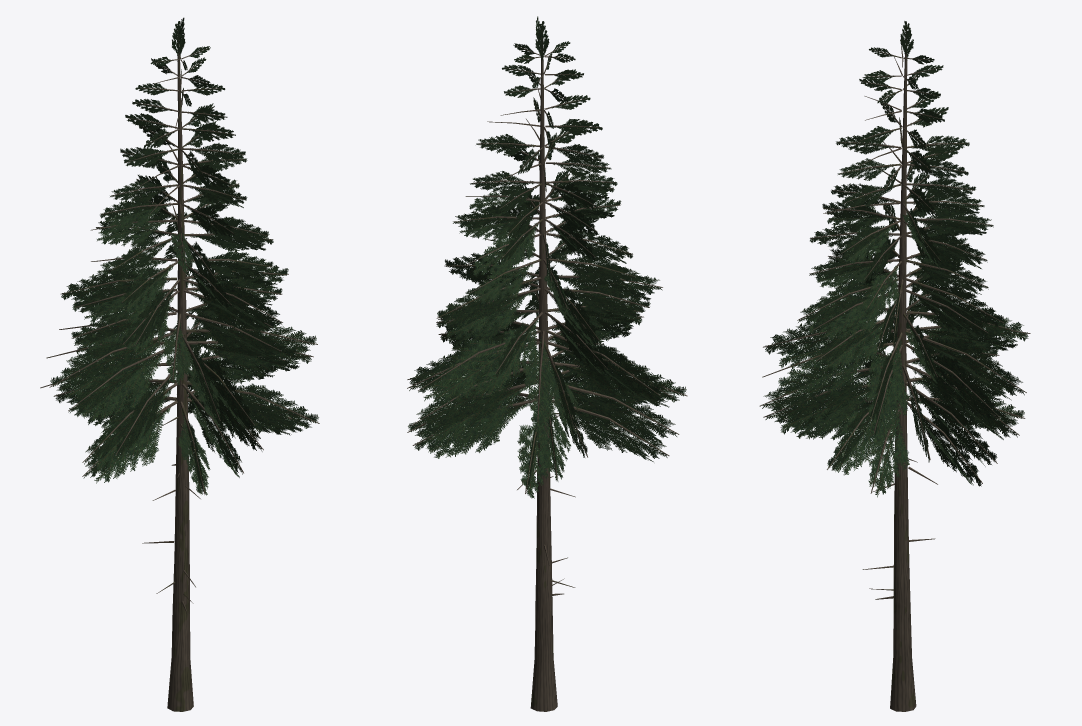
File: S7U_Spruce_C.fbx
The picture shows the model from 3 angles, left to right: view 1: azimuth 30°, elevation 25°; view 2: azimuth 150°, elevation 25°; view 3: azimuth 270°, elevation 25°; orthographic projection.
Parts seen in each view (by area): view 1: S7U_Spruce_C; view 2: S7U_Spruce_C; view 3: S7U_Spruce_C.
Boxes of the visible parts, x1,y1,x2,y2 form: S7U_Spruce_C: (40,17,319,711); S7U_Spruce_C: (407,16,687,711); S7U_Spruce_C: (759,21,1030,711).
Bounding box in the file's own units: 7.25 × 16.59 × 7.26.
